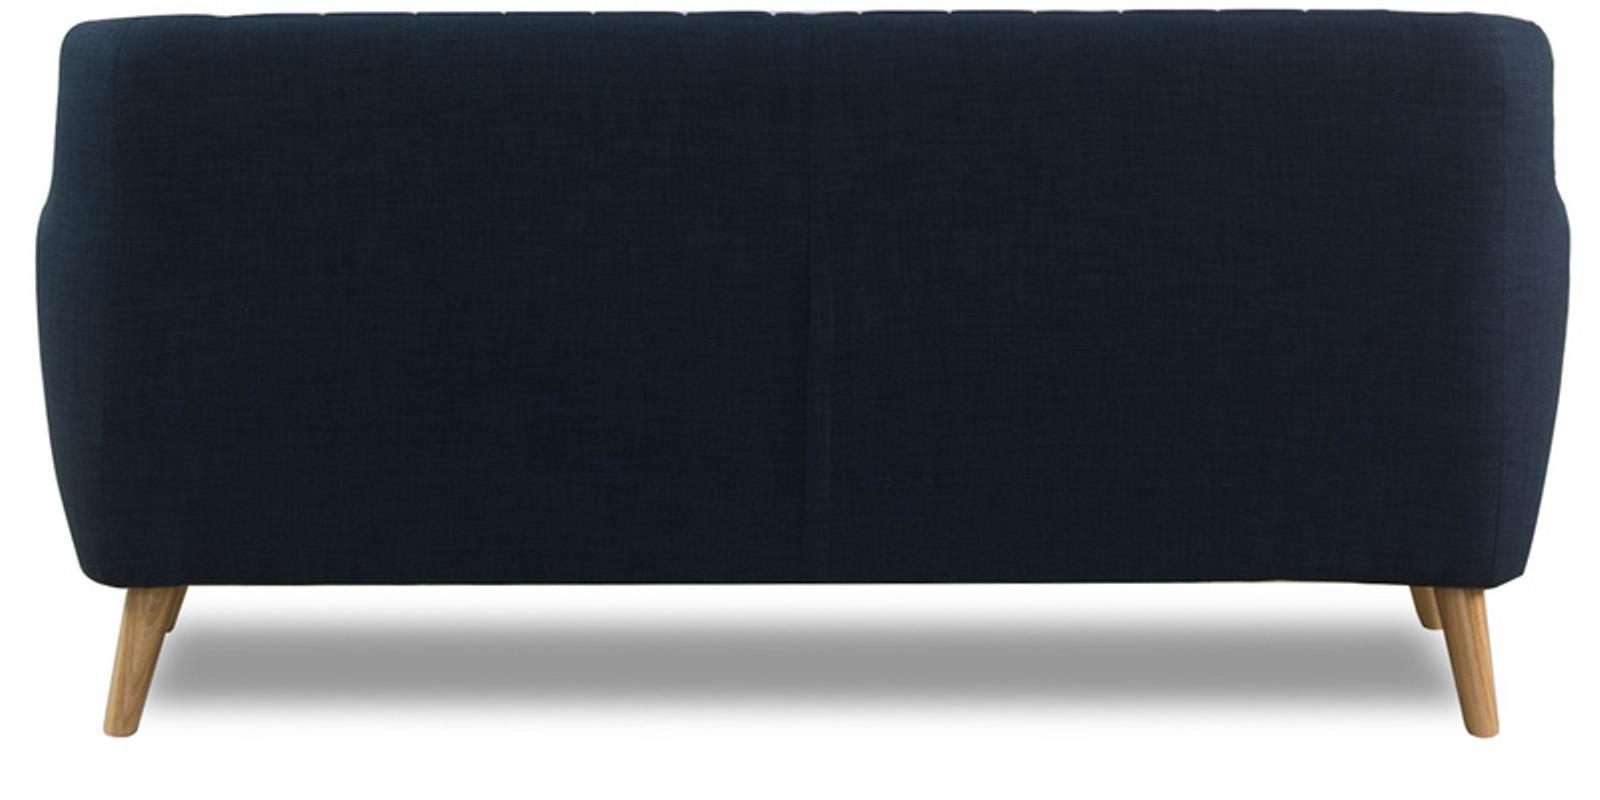Managua Three Seater Sofa in Blue Colour by CasaCraft: (34, 11, 1569, 739)
